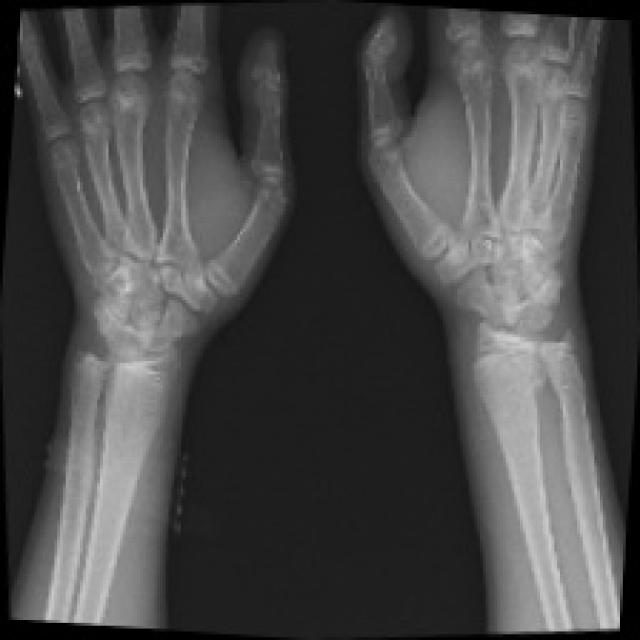fracture: (452, 270, 636, 400)
